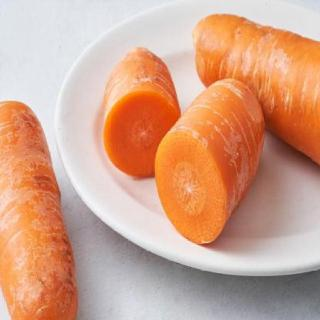carrot: (190, 11, 320, 169), (153, 76, 267, 246), (0, 96, 80, 320), (100, 43, 184, 178)
